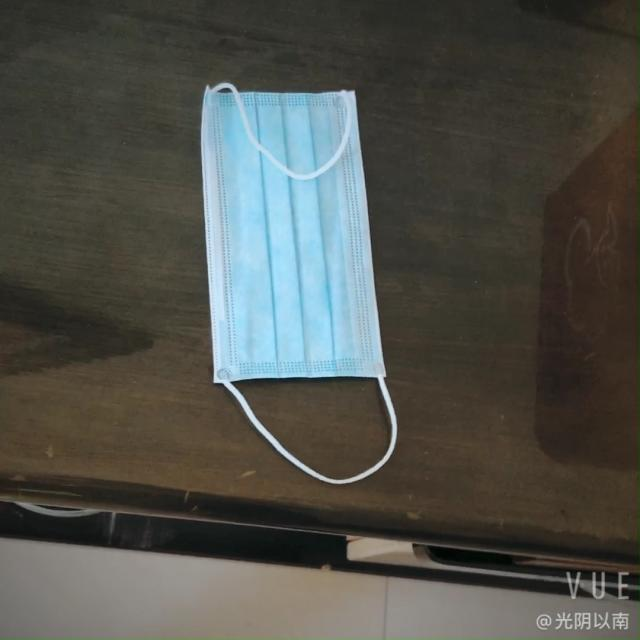face mask: (194, 68, 401, 386)
